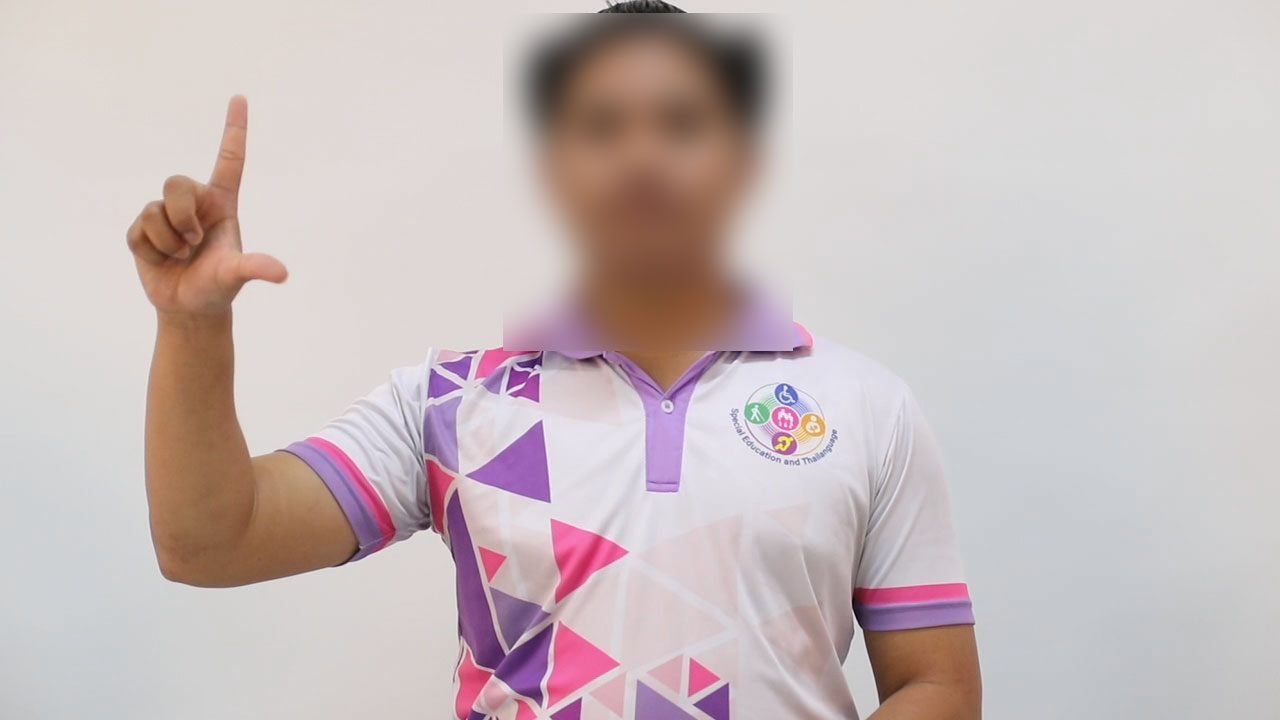lor: (112, 82, 303, 338)
